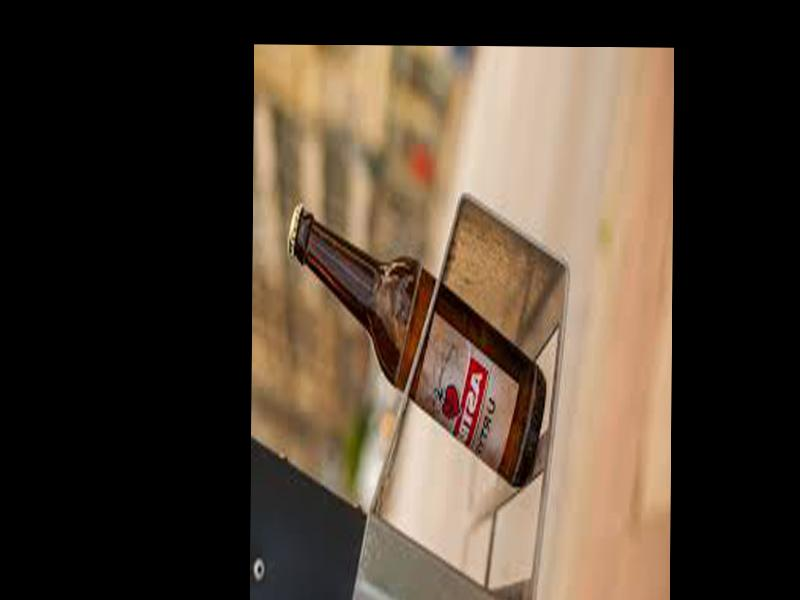Beer: (284, 201, 548, 490)
